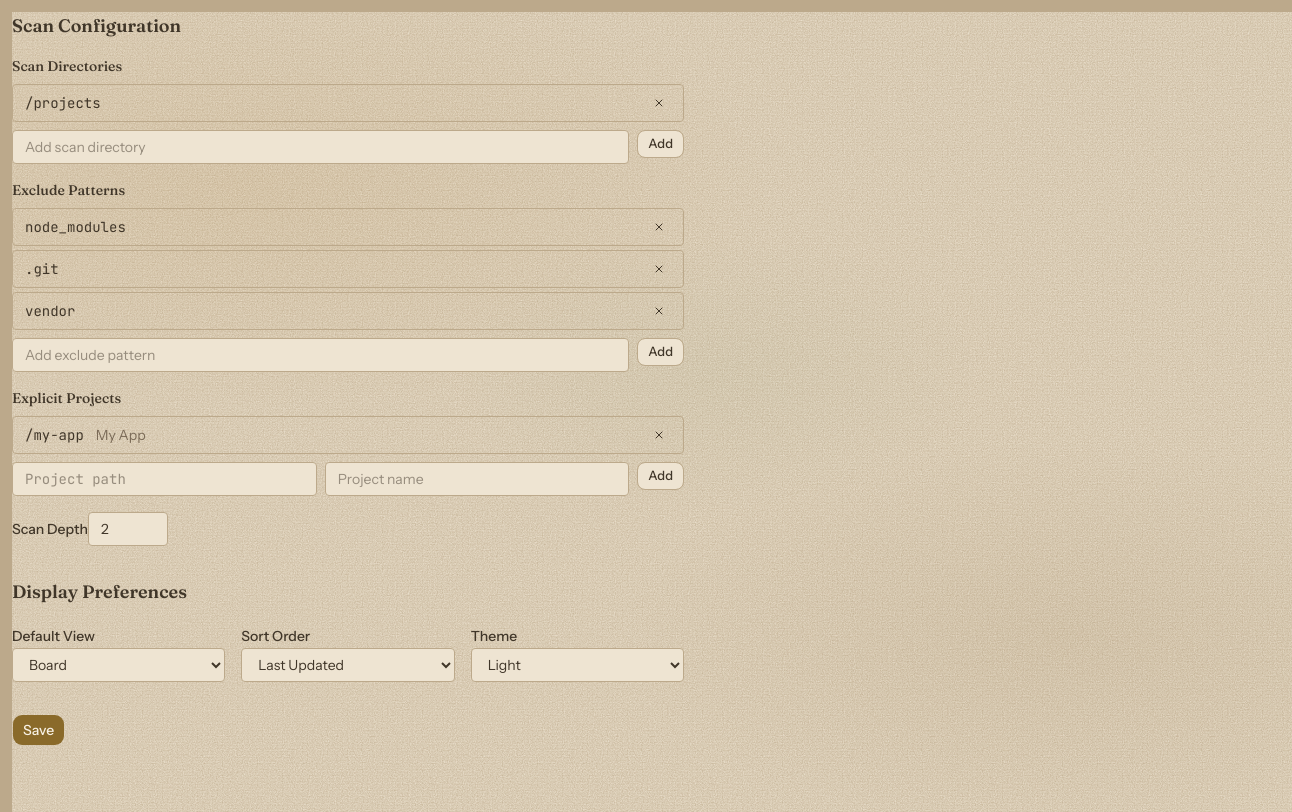
it: SettingsForm › shows error feedback on save failure
Click the button "Save".
click(39, 730)  # box top-left (12, 714), bottom-right (65, 746)
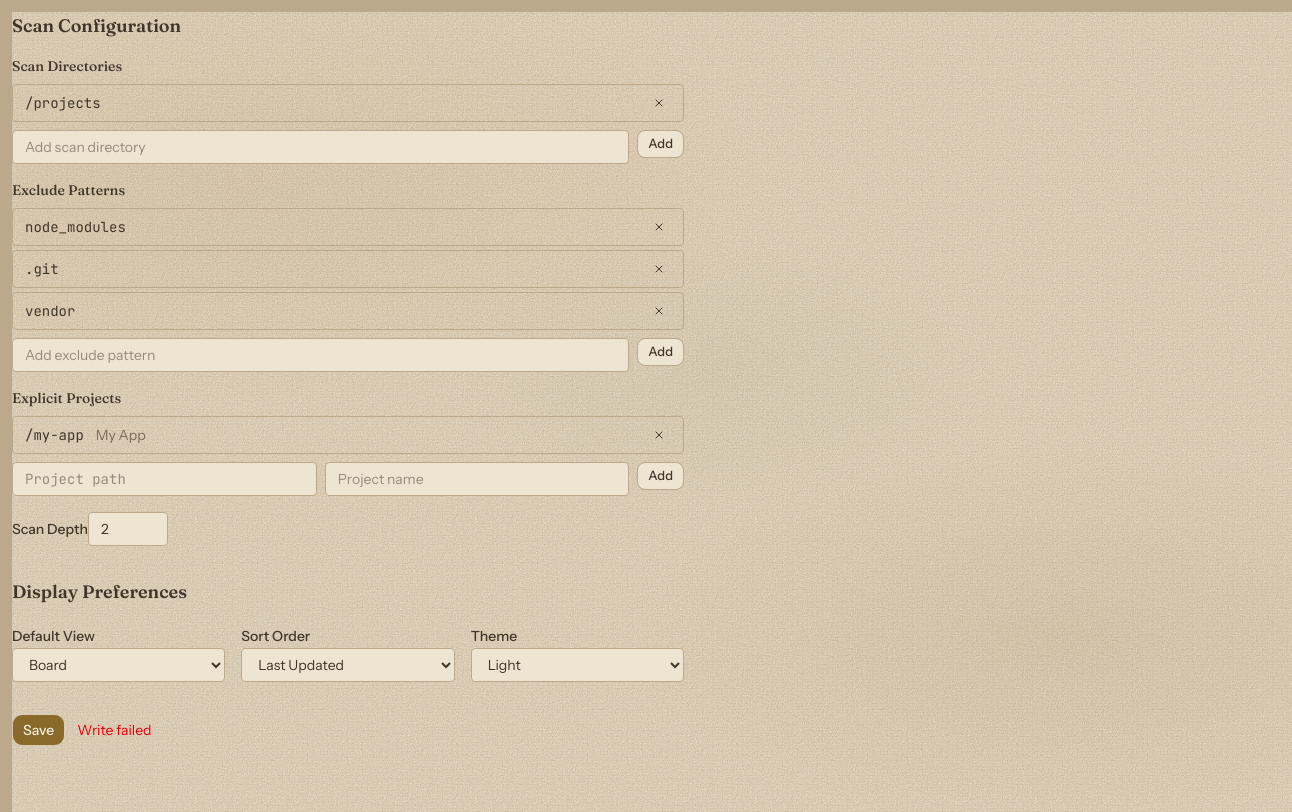
Expected: the text "Write failed" is shown, top-left (77, 720), bottom-right (152, 740)
